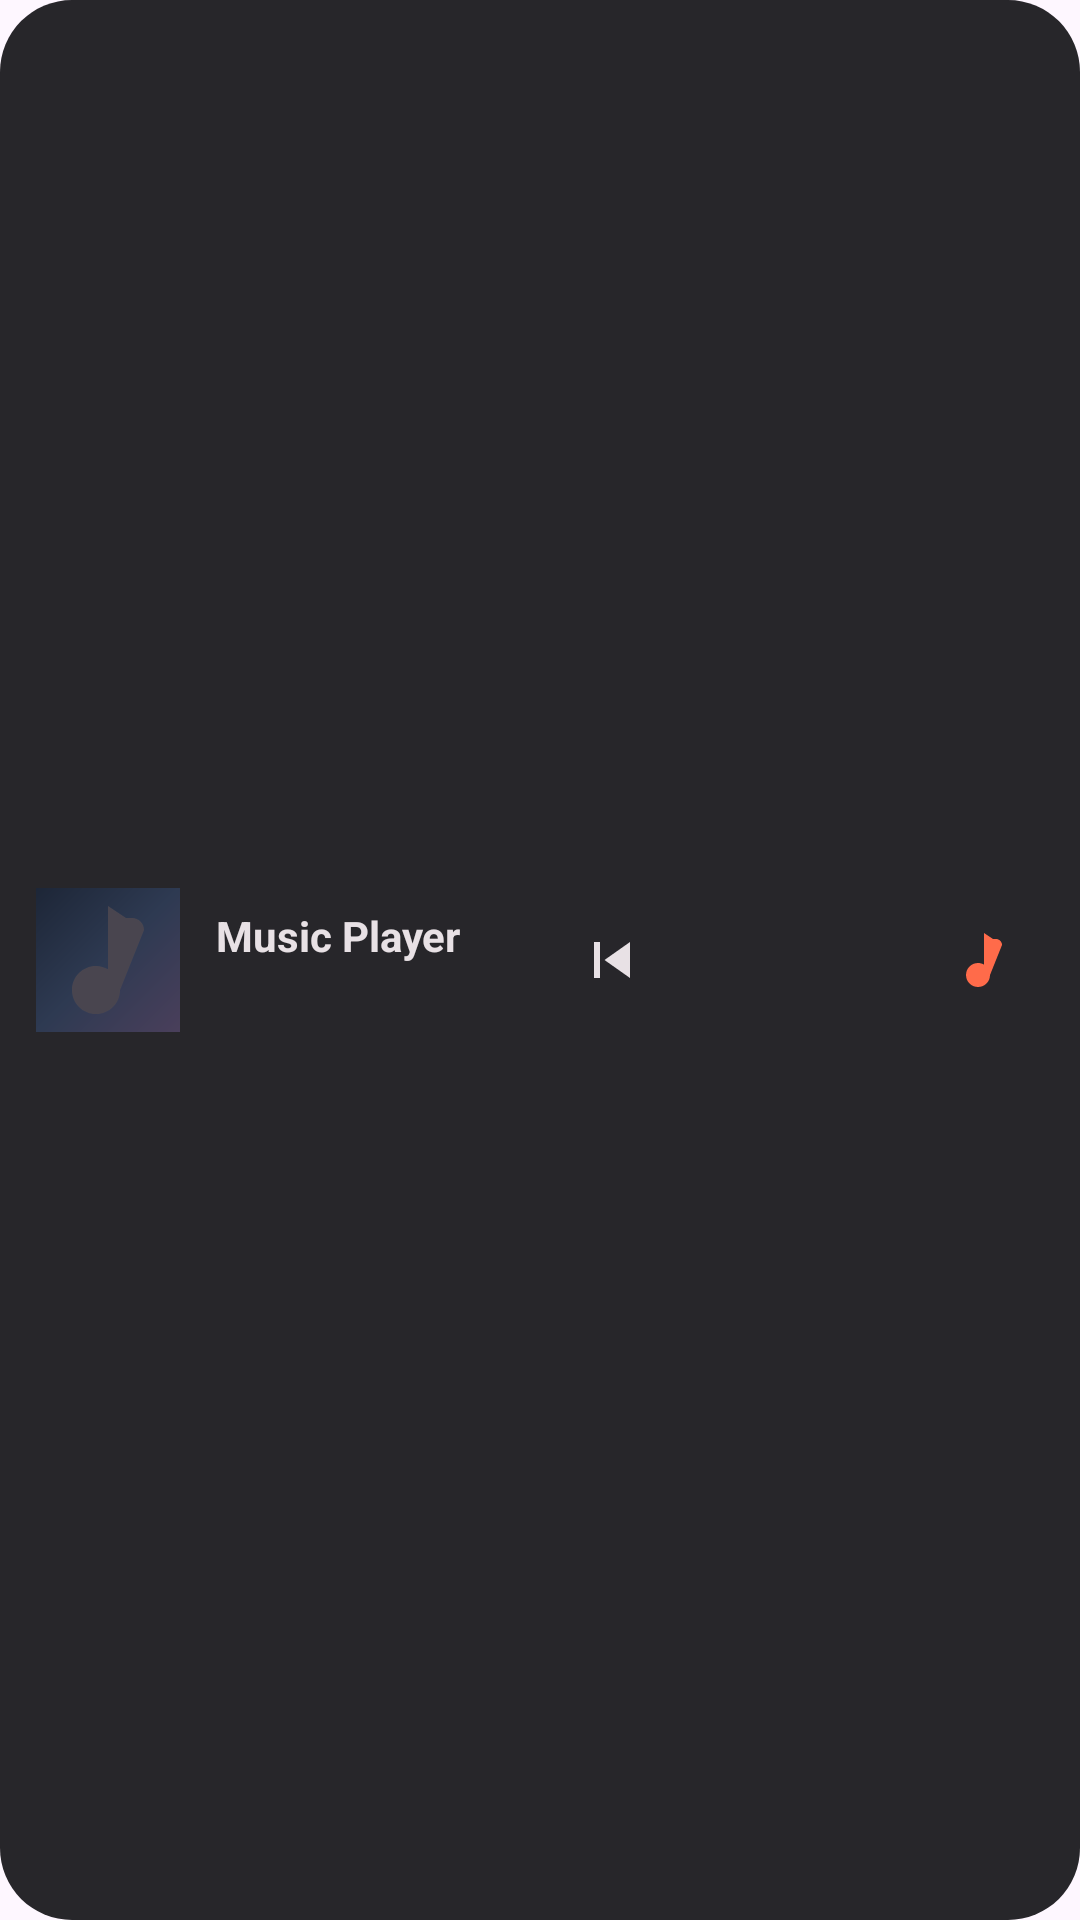

Where to tap for icons on this 1080px x 1920px app screen, as (x,y):
music note: (984,960)
Previous: (612,960)
